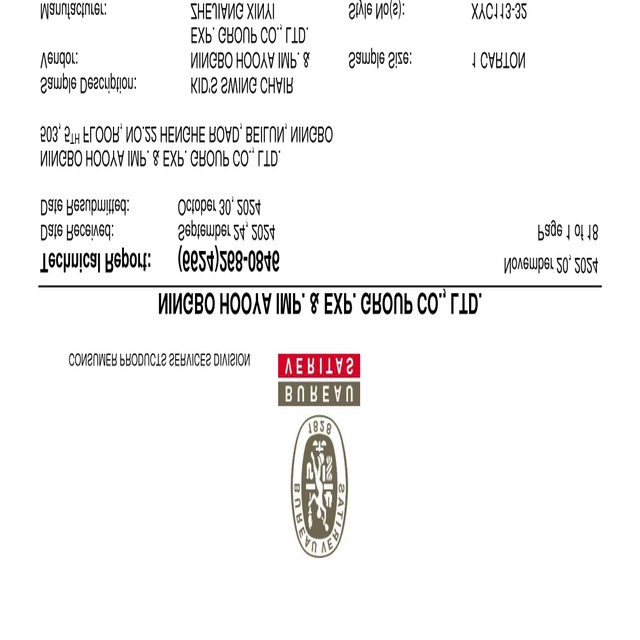bureau_veritas: (273, 351, 363, 565)
